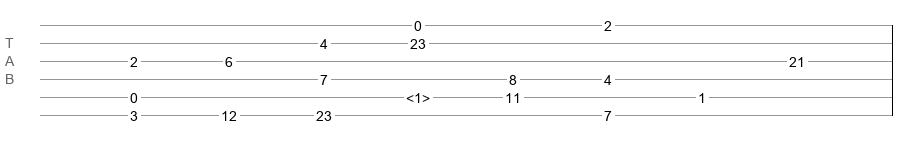0: (130, 90, 138, 100), (414, 18, 422, 28)
1: (698, 90, 706, 100)
11: (505, 90, 521, 100)
12: (221, 108, 237, 118)
2: (130, 54, 138, 64), (604, 18, 612, 28)
21: (789, 54, 805, 64)
23: (316, 108, 332, 118), (410, 36, 426, 46)
3: (130, 108, 138, 118)
4: (320, 36, 328, 46), (604, 72, 612, 82)
6: (225, 54, 233, 64)
7: (320, 72, 328, 82), (604, 108, 612, 118)
8: (509, 72, 517, 82)
harmonic: (406, 90, 430, 100)
